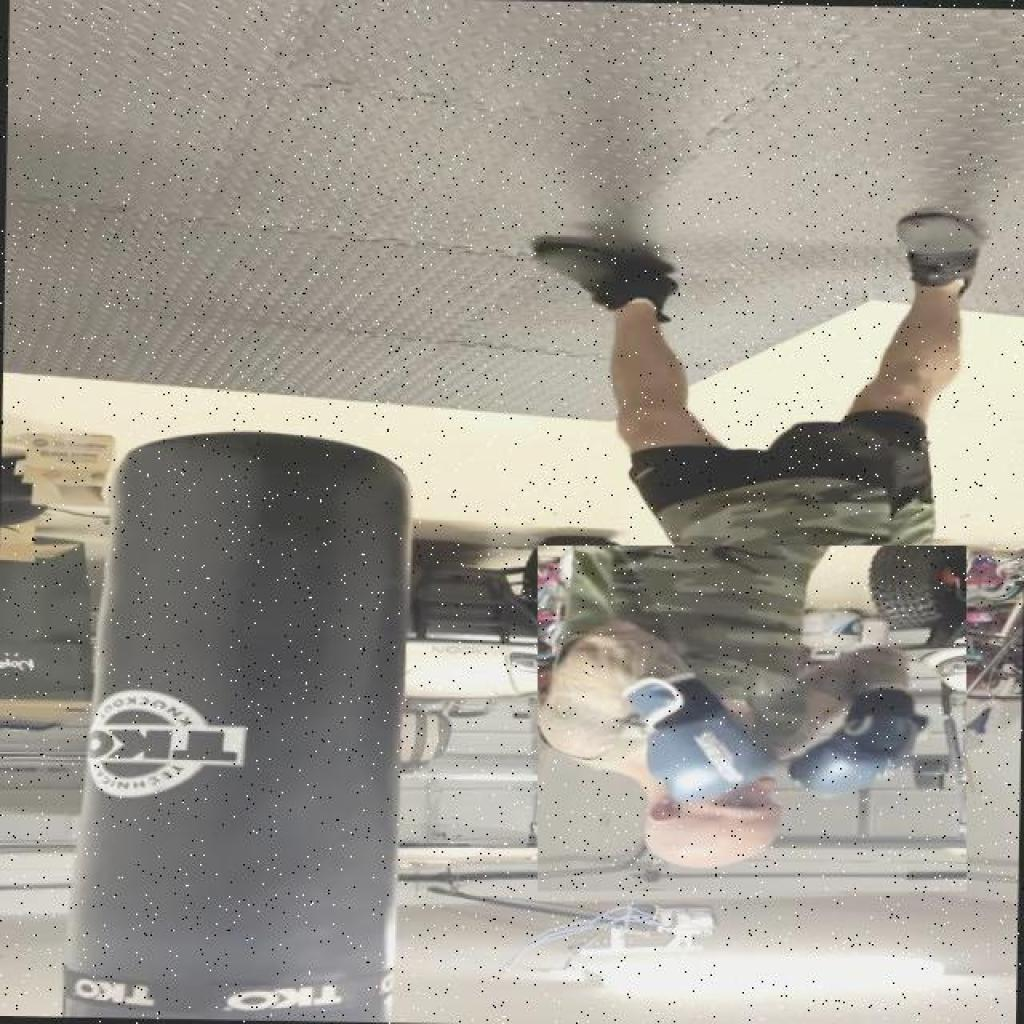cross: (0, 579, 86, 900)
uppercut: (538, 546, 967, 891)
